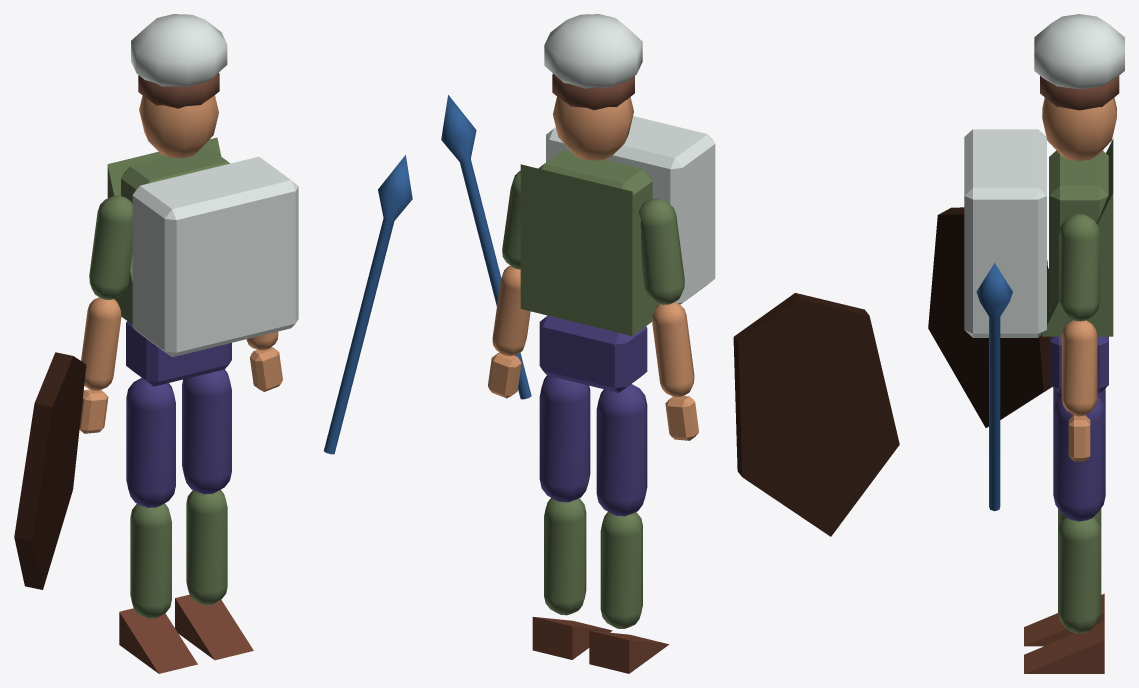
Rendered from adventurer.rustic.glb.
3 renders of one model, left to right at view 1: azimuth 30°, elevation 25°; view 2: azimuth 150°, elevation 25°; view 3: azimuth 270°, elevation 25°, orthographic.
Visible parts, largest first — view 1: accessory.body, accessory.off-hand, thigh.left, thigh.right, accessory.head, shin.left, shin.right, accessory.main-hand, upper-arm.left, head, pelvis, foot.left (+7 smaller); view 2: accessory.off-hand, tunic, accessory.body, pelvis, thigh.left, thigh.right, accessory.head, shin.left, shin.right, upper-arm.left, head, accessory.main-hand (+9 smaller); view 3: accessory.body, accessory.off-hand, accessory.head, thigh.right, shin.right, torso, upper-arm.right, accessory.main-hand, head, forearm.right, tunic, foot.right (+4 smaller).
Part boxes in pixels (x1,y1,x2,y2): accessory.body: (132, 156, 298, 357); accessory.off-hand: (14, 352, 86, 589); thigh.left: (126, 377, 175, 507); thigh.right: (182, 369, 231, 494); accessory.head: (131, 14, 227, 87); shin.left: (130, 503, 171, 618); shin.right: (186, 489, 227, 605); accessory.main-hand: (324, 155, 412, 454); upper-arm.left: (89, 195, 132, 299); head: (139, 95, 218, 158); pelvis: (126, 321, 231, 386); foot.left: (119, 608, 197, 673); accessory.off-hand: (733, 293, 899, 536); tunic: (520, 164, 659, 335); accessory.body: (546, 116, 715, 304); pelvis: (539, 315, 647, 392); thigh.left: (596, 384, 647, 516); thigh.right: (539, 375, 590, 502); accessory.head: (544, 14, 642, 88); shin.left: (600, 512, 642, 628); shin.right: (544, 498, 586, 615); upper-arm.left: (638, 198, 684, 304); head: (553, 97, 633, 160); accessory.main-hand: (441, 95, 531, 399); accessory.body: (964, 129, 1046, 337); accessory.off-hand: (928, 207, 1051, 427); accessory.head: (1034, 14, 1124, 89); thigh.right: (1053, 396, 1105, 521); shin.right: (1058, 517, 1101, 633); torso: (1049, 150, 1108, 310); upper-arm.right: (1059, 213, 1100, 321); accessory.main-hand: (976, 263, 1012, 511); head: (1042, 97, 1116, 161); forearm.right: (1061, 320, 1097, 416); tunic: (1041, 139, 1113, 336); foot.right: (1024, 621, 1104, 673).
Bounding box in the file's own units: 2.27 × 3.2 × 0.9041.
